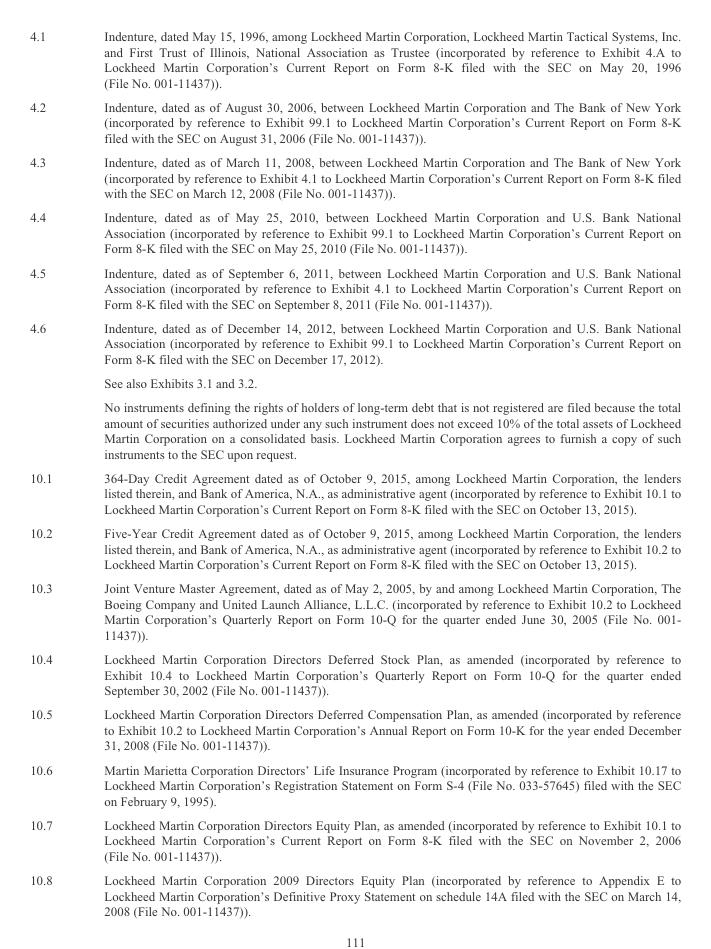table: (29, 28, 680, 917)
table column: (77, 28, 680, 917), (29, 28, 77, 917)
table row: (29, 394, 680, 465), (29, 576, 680, 646), (29, 28, 680, 94), (29, 204, 680, 260), (29, 520, 680, 576), (29, 646, 680, 702), (29, 94, 680, 149), (29, 149, 680, 204), (29, 260, 680, 315), (29, 315, 680, 370), (29, 465, 680, 520), (29, 702, 680, 757), (29, 757, 680, 812), (29, 812, 680, 867), (29, 867, 680, 917), (29, 370, 680, 394)
table spanning cell: (29, 315, 77, 465)
